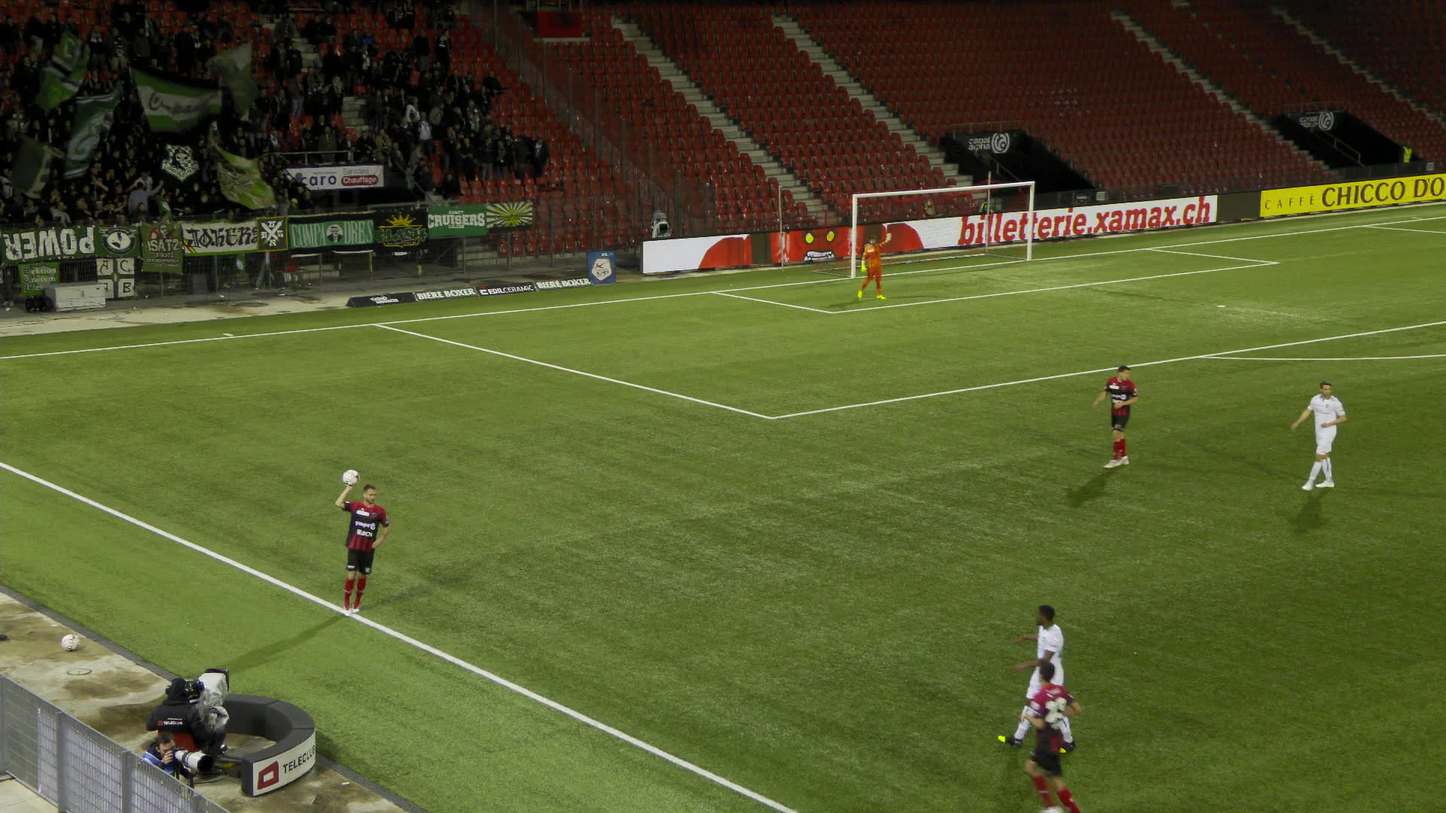ball: (346, 469, 361, 483)
player: (1021, 662, 1110, 812), (1010, 601, 1075, 751), (337, 483, 390, 612), (1297, 381, 1348, 489), (1095, 364, 1139, 465), (860, 231, 892, 298)
